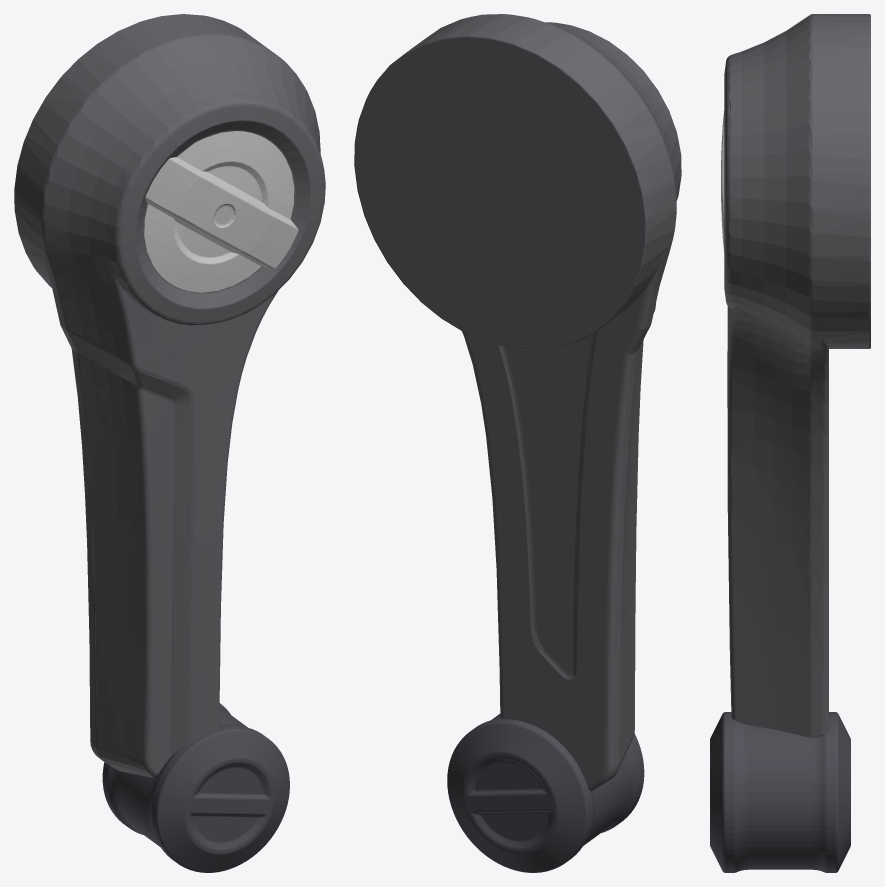
Rendered from BP3_UPPER_R.dae.
The picture shows the model from 3 angles, left to right: view 1: azimuth 30°, elevation 25°; view 2: azimuth 150°, elevation 25°; view 3: azimuth 270°, elevation 25°; orthographic projection. The views are drawn at different scales.
Visible parts, largest first — view 1: Leg Upper Right; view 2: Leg Upper Right; view 3: Leg Upper Right.
Boxes of the visible parts, x1,y1,x2,y2 form: Leg Upper Right: (14,14,325,872); Leg Upper Right: (354,14,681,872); Leg Upper Right: (710,14,870,872).
Size of the model in its own units: 0.0999 by 0.048 by 0.2749.
1 material, 1 textured.
